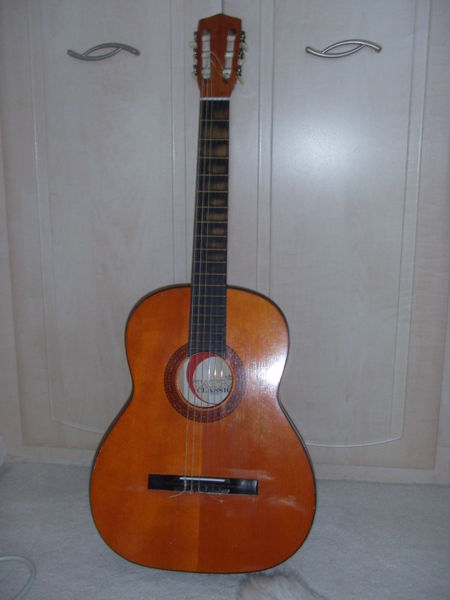guitar: (86, 12, 320, 576)
